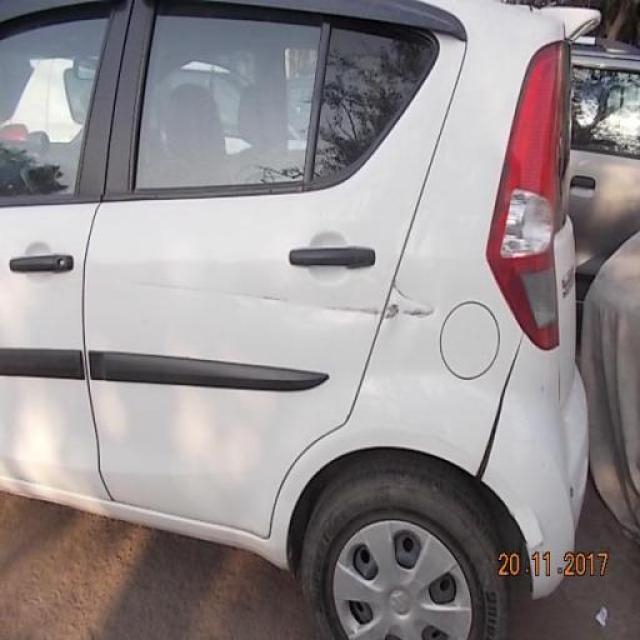scratch: (138, 282, 441, 324)
tear: (471, 336, 525, 482)
